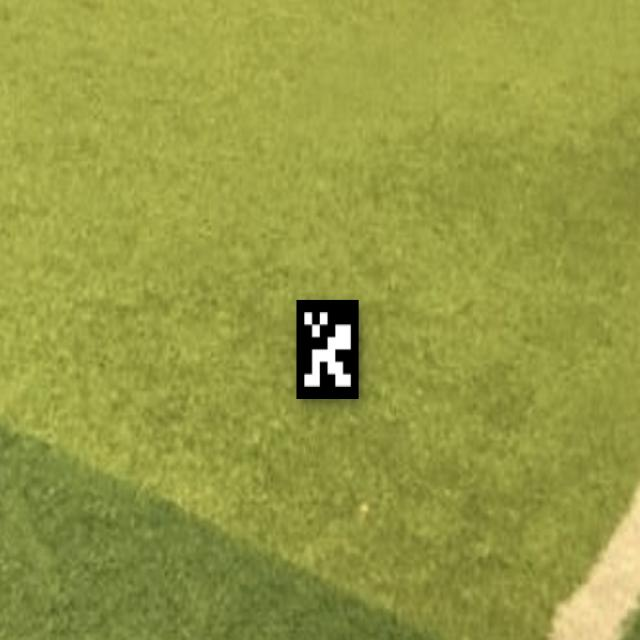marker: (289, 285, 370, 414)
